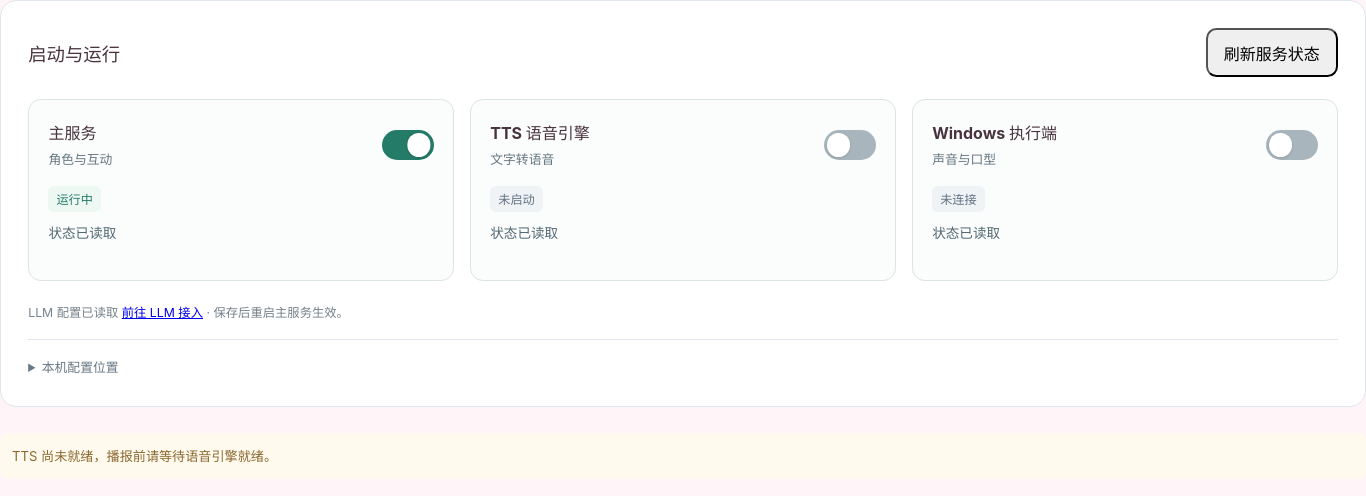
connects Windows through the switch and can cancel while connecting
Click the switch named "Windows 执行端" at (1292, 145), box [1266,130,1318,160]
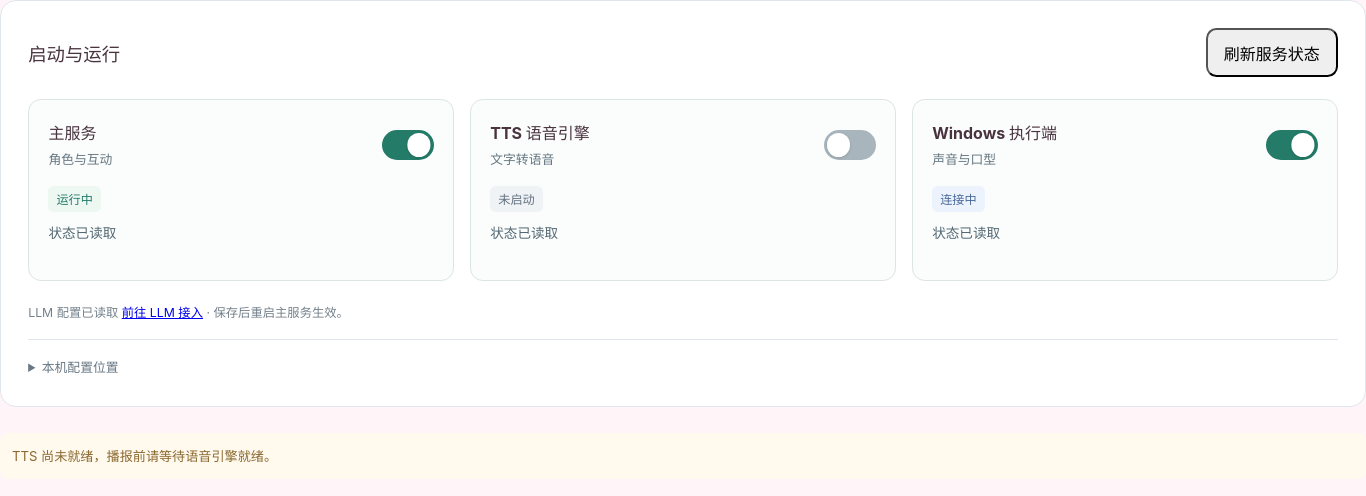
Result: the switch named "Windows 执行端" is checked
Result: the text "连接中" is shown at [932,186,985,212]
Click the switch named "Windows 执行端" at (1292, 145), box [1266,130,1318,160]
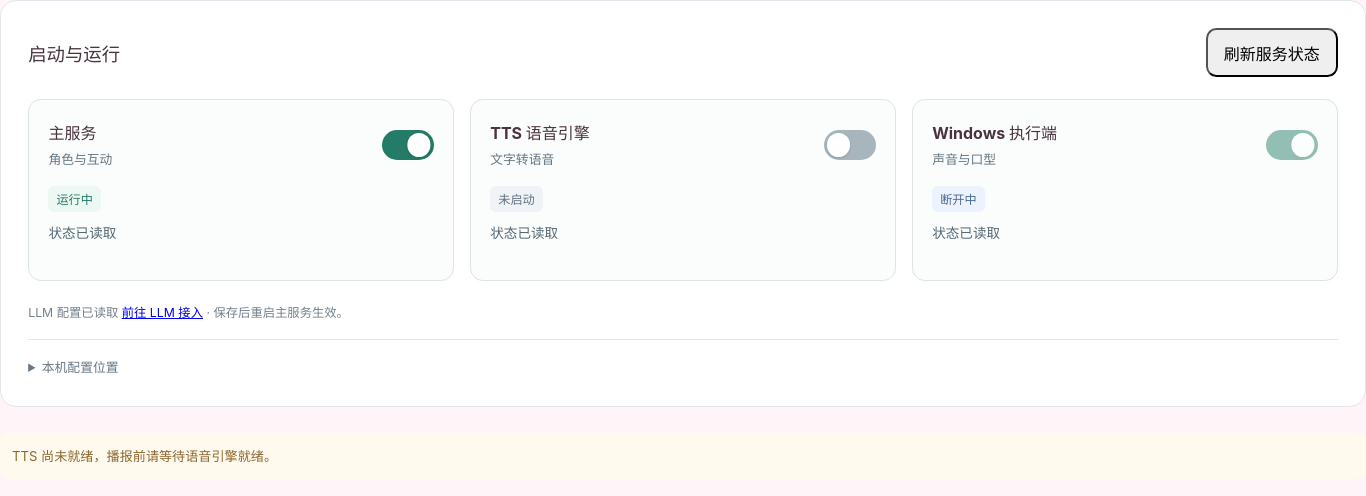
Result: the switch named "Windows 执行端" is disabled at [1266,130,1318,160]
